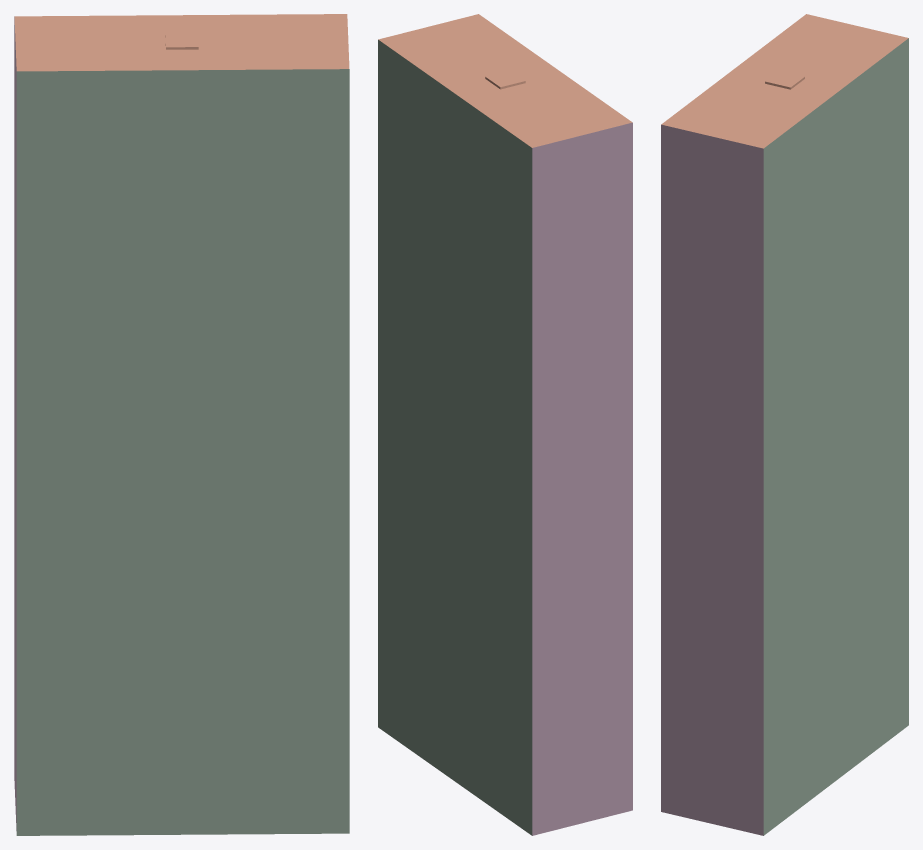
The model's file is doitt-778052__lod_1.glb.
3 views of the same model, side by side, from view 1: azimuth 30°, elevation 25°; view 2: azimuth 150°, elevation 25°; view 3: azimuth 270°, elevation 25° (orthographic). The views are drawn at different scales.
Bounding box in the file's own units: 159 × 379 × 123.
